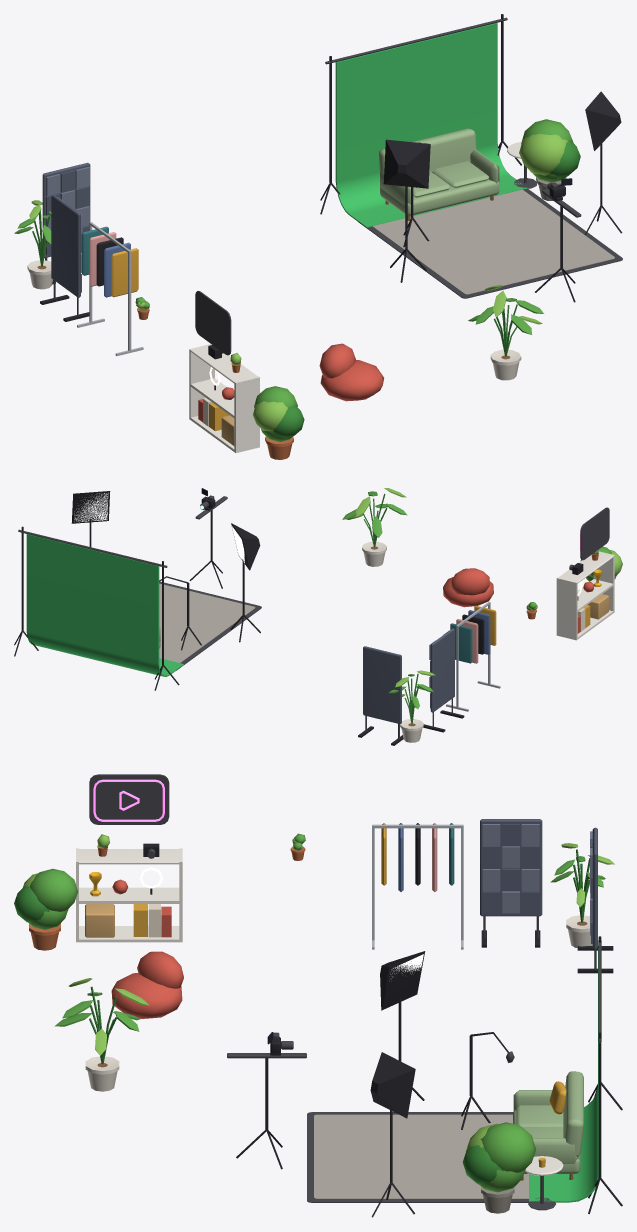
The model's file is einrichtung_freies_zimmer_studio.glb.
3 renders of one model, top to bottom at view 1: azimuth 30°, elevation 25°; view 2: azimuth 150°, elevation 25°; view 3: azimuth 270°, elevation 25°, orthographic. The views are drawn at different scales.
Parts seen in each view (by area): view 1: einrichtung_freies_zimmer_studio; view 2: einrichtung_freies_zimmer_studio; view 3: einrichtung_freies_zimmer_studio.
Part boxes in pixels (x1,y1,x2,y2): einrichtung_freies_zimmer_studio: [14, 14, 622, 459]; einrichtung_freies_zimmer_studio: [14, 488, 622, 745]; einrichtung_freies_zimmer_studio: [14, 774, 622, 1217].
Size of the model in its own units: 7.82 by 2.18 by 6.86.
